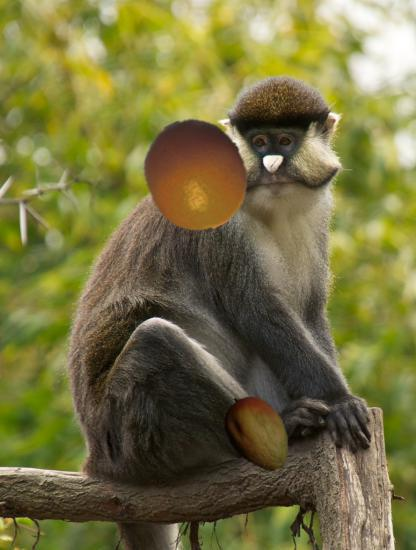Grapefruit: (140, 118, 253, 231)
Papaya: (216, 392, 300, 476)
